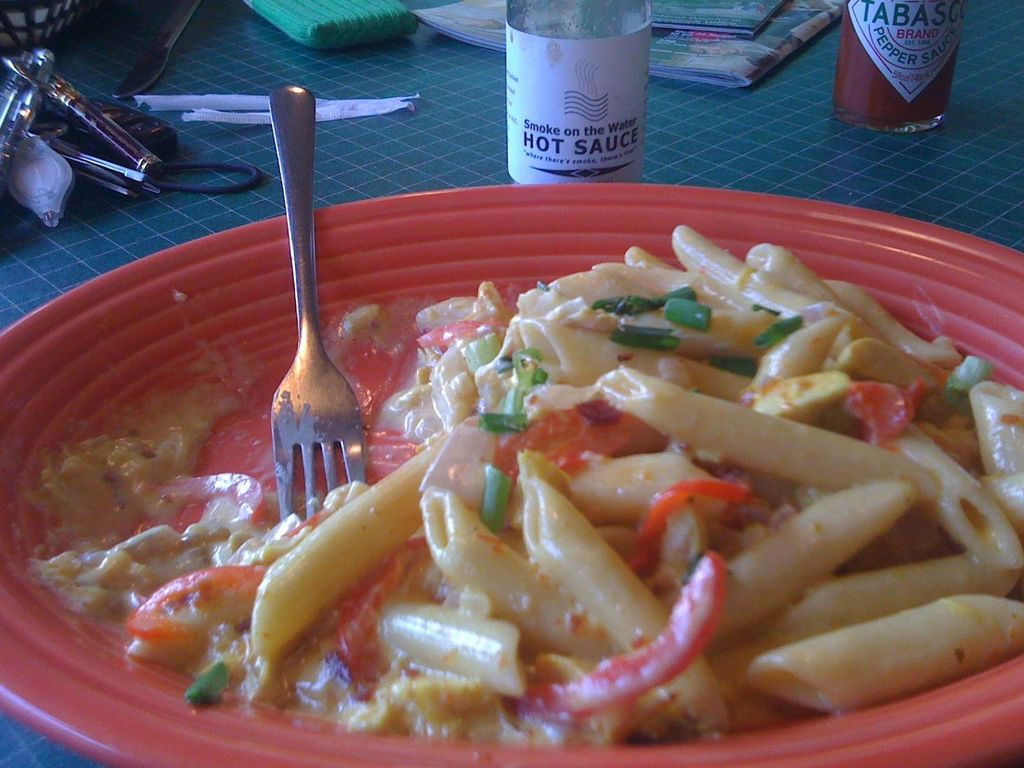pasta: (154, 196, 1024, 749)
